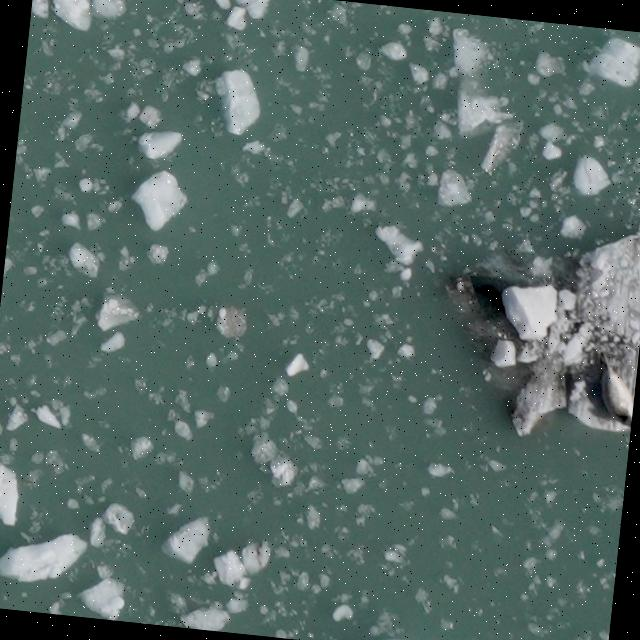seal: (586, 346, 639, 430)
